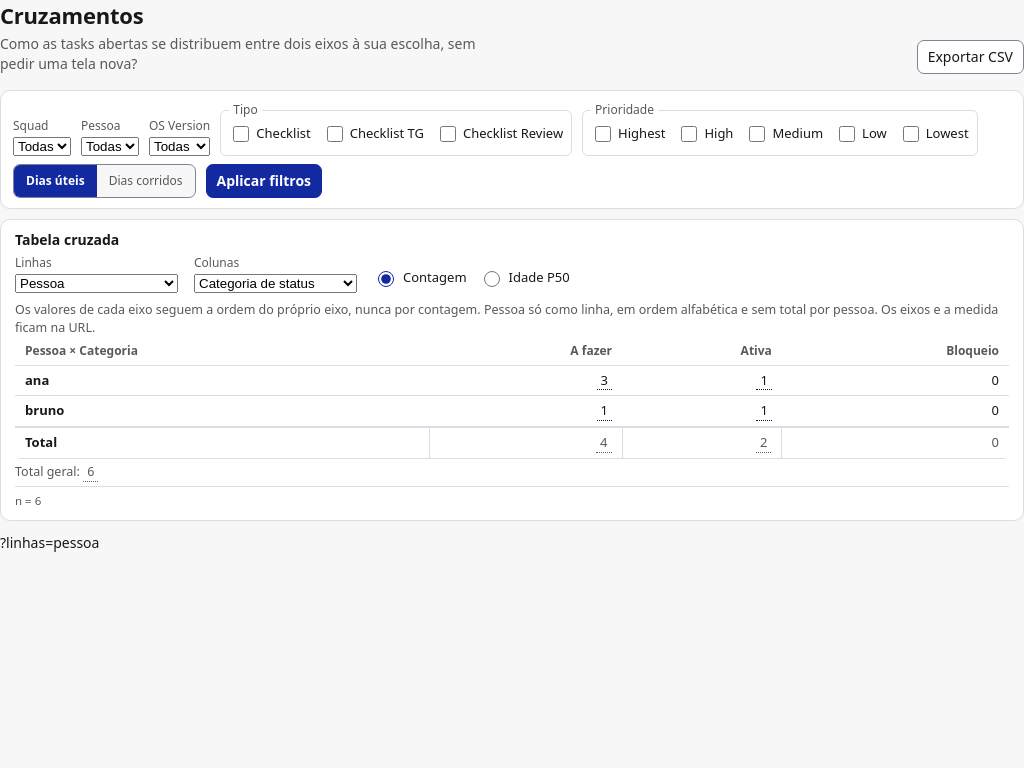
Test: aba Cruzamentos › totalGeralContinuaAlcancavelQuandoALinhaEPessoa
Expected: the table named "Tabela cruzada das tasks abertas" is shown, 15,337 -> 1009,459
Click the button named "Total geral: 6": (91, 473) 83,463 -> 98,482
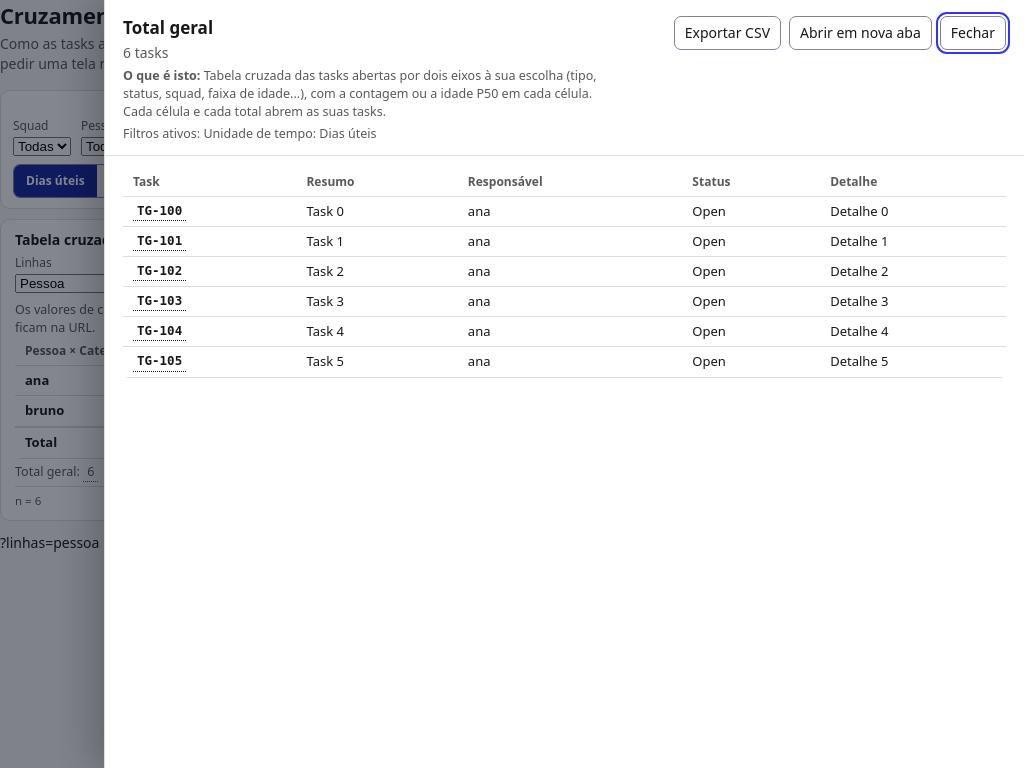
Now the dialog is shown
